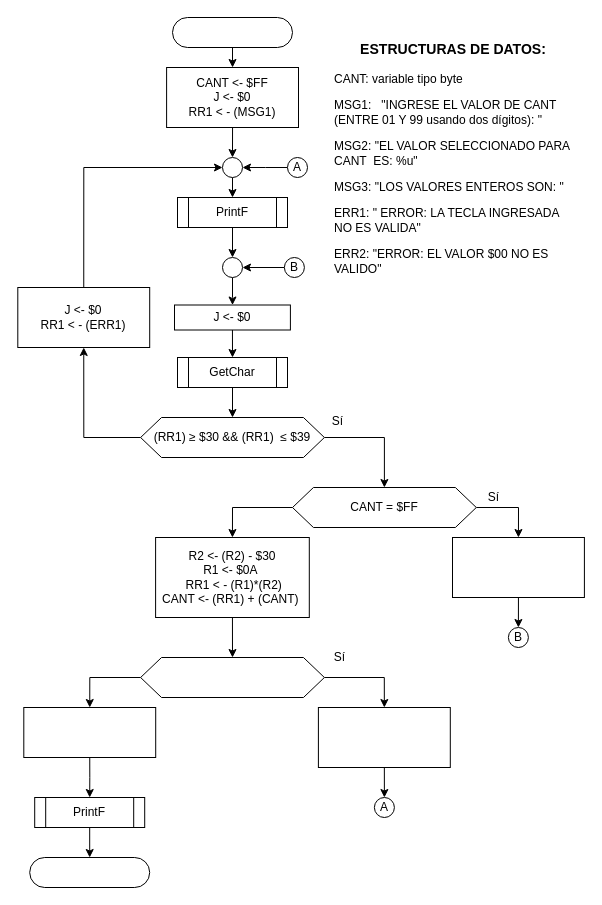
Image size: 602x905. Some labels were removed from this diagram. The shapes that lost their labels are listed below. From the top down, each one's box as (x1, y1, x2, y2) in pixels, then its label:
(172, 16, 292, 48): LEER_CANT
(452, 536, 584, 598): R2 <- (R2) - $30 CANT <- $F0 || (R2)
(140, 656, 324, 698): CANT = $00
(23, 706, 156, 758): J <- $0 RR1 < - (MSJ2)
(317, 706, 450, 768): CANT <- $FF J <- $0 RR1 < - (ERR2)
(29, 856, 150, 888): REGRESA
